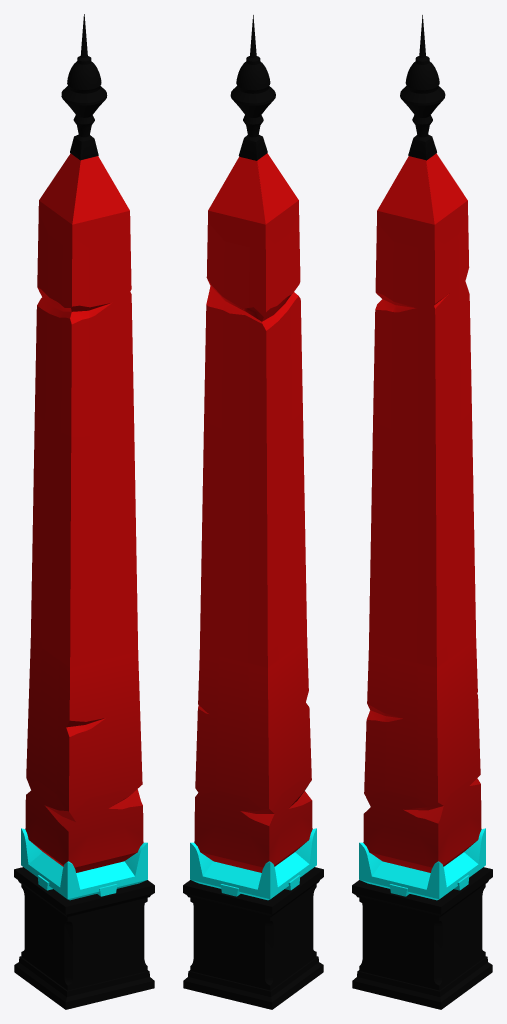
Rendered from bigPillar.fbx.
3 renders of one model, left to right at view 1: azimuth 30°, elevation 25°; view 2: azimuth 150°, elevation 25°; view 3: azimuth 330°, elevation 25°, orthographic.
Visible parts, largest first — view 1: models/base/museum_interior/museum_pit_obelisk_01.vmdl_c.mus; view 2: models/base/museum_interior/museum_pit_obelisk_01.vmdl_c.mus; view 3: models/base/museum_interior/museum_pit_obelisk_01.vmdl_c.mus.
Boxes of the visible parts, x1,y1,x2,y2 form: models/base/museum_interior/museum_pit_obelisk_01.vmdl_c.mus: (14, 14, 154, 1009); models/base/museum_interior/museum_pit_obelisk_01.vmdl_c.mus: (183, 15, 323, 1009); models/base/museum_interior/museum_pit_obelisk_01.vmdl_c.mus: (352, 15, 492, 1009).
Size of the model in its own units: 360 by 3728 by 360.
